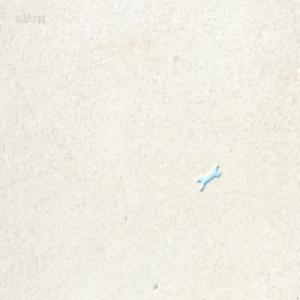Wrench: (196, 162, 221, 189)
